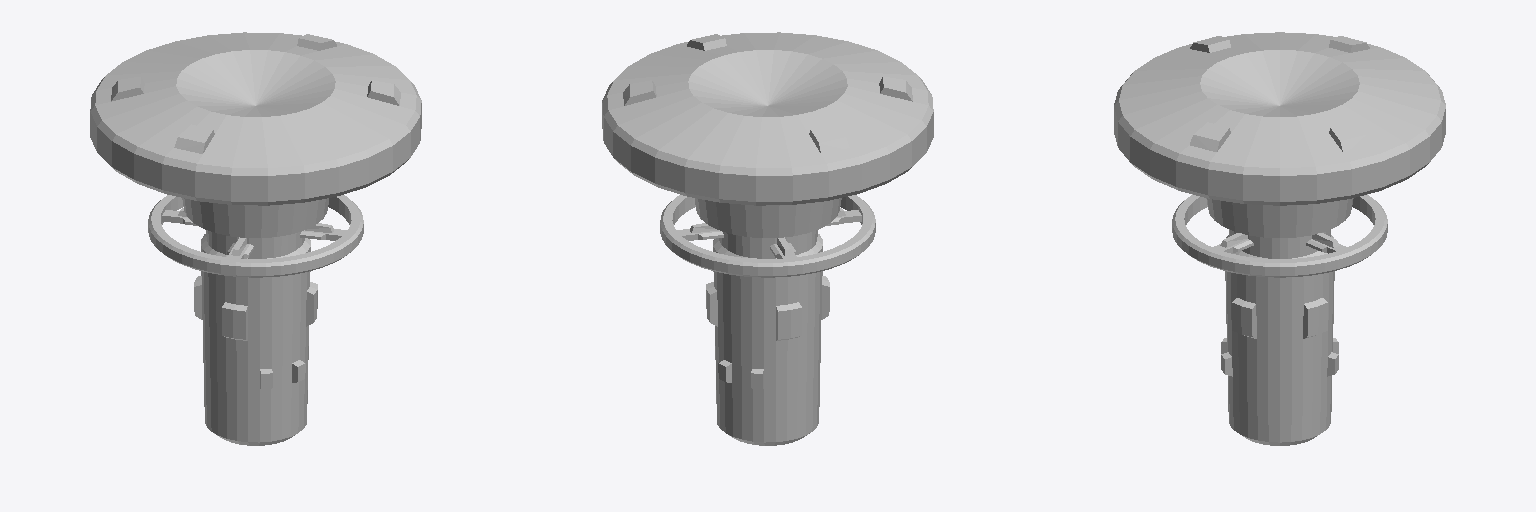
The model's file is _cannon.obj.
3 views of the same model, side by side, from view 1: azimuth 30°, elevation 25°; view 2: azimuth 150°, elevation 25°; view 3: azimuth 270°, elevation 25° (orthographic).
Visible parts, largest first — view 1: Space_Cannon; view 2: Space_Cannon; view 3: Space_Cannon.
Boxes of the visible parts, x1,y1,x2,y2 form: Space_Cannon: [90, 32, 421, 445]; Space_Cannon: [602, 32, 933, 445]; Space_Cannon: [1114, 32, 1445, 445].
Bounding box in the file's own units: 6.54 × 7.49 × 6.54.